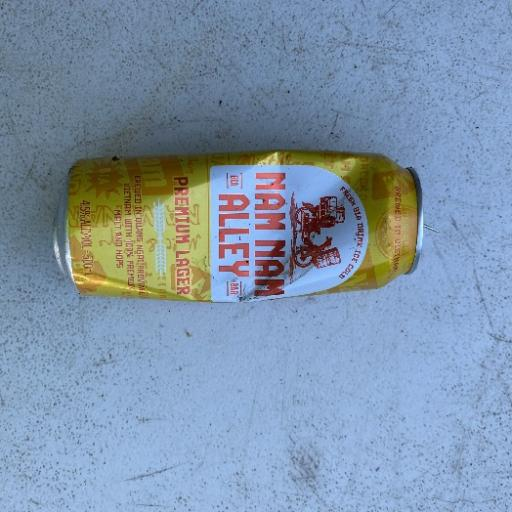Metal: (58, 148, 424, 304)
